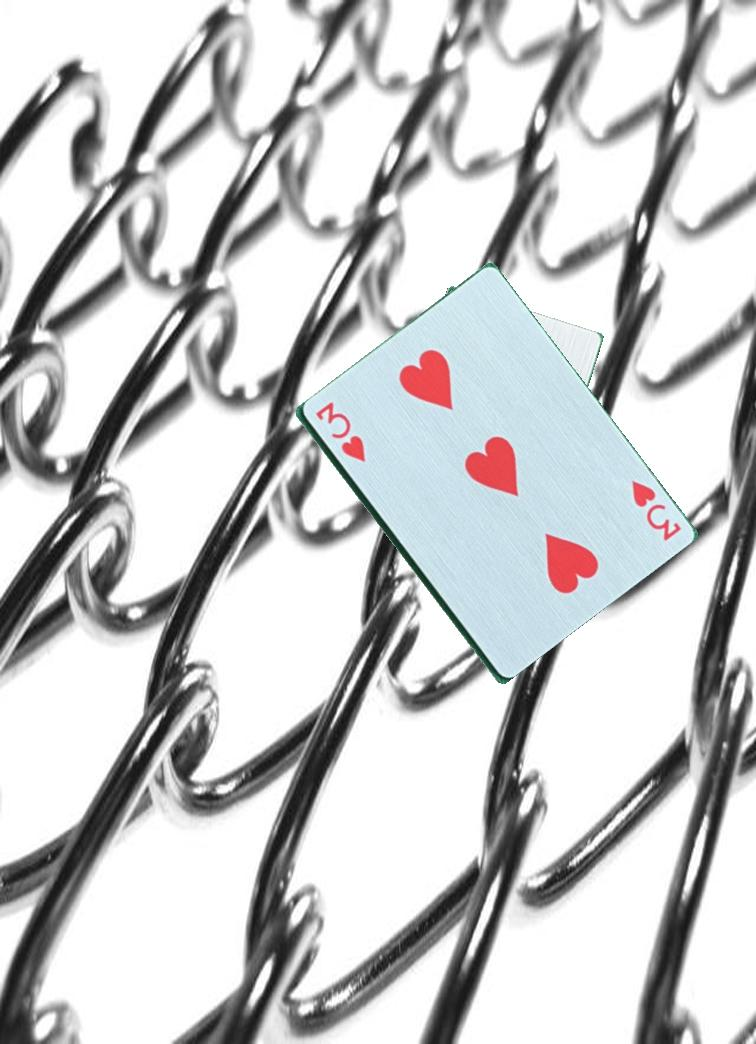3h: (614, 477, 684, 546), (311, 399, 368, 465)
